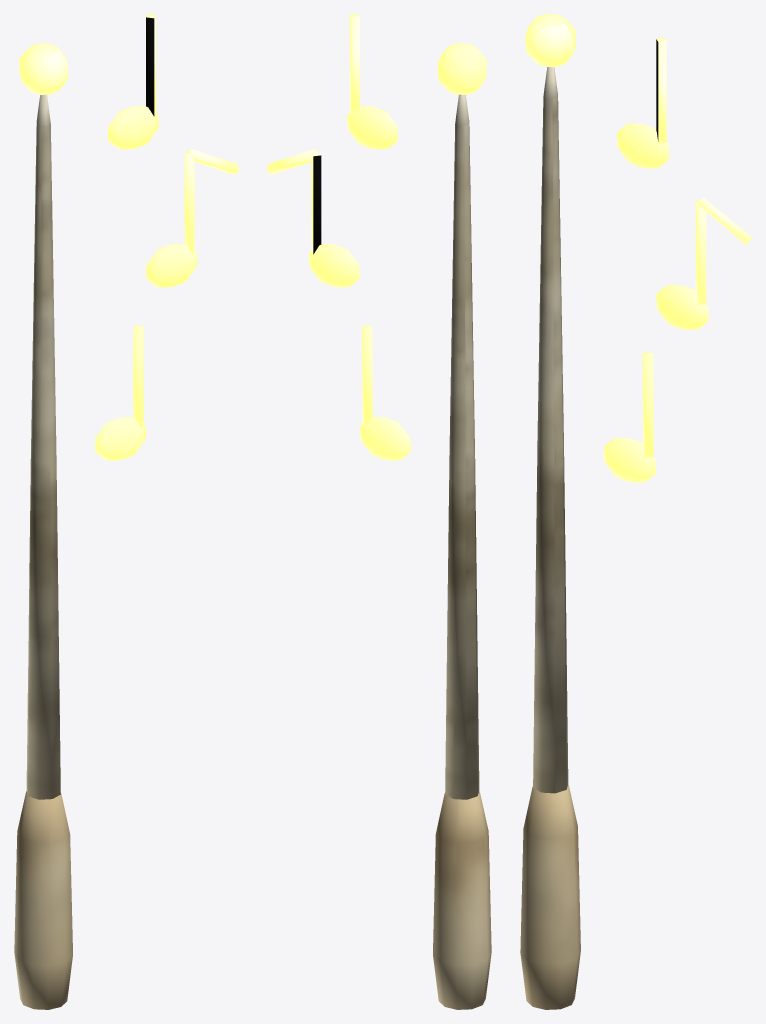
The model's file is MaestrosBaton.fbx.
The picture shows the model from 3 angles, left to right: view 1: azimuth 30°, elevation 25°; view 2: azimuth 150°, elevation 25°; view 3: azimuth 330°, elevation 25°; orthographic projection. The views are drawn at different scales.
Parts seen in each view (by area): view 1: MaestrosBaton; view 2: MaestrosBaton; view 3: MaestrosBaton.
Boxes of the visible parts, box(x1,y1,x2,y2) form: MaestrosBaton: box(14, 14, 238, 1009); MaestrosBaton: box(267, 14, 491, 1009); MaestrosBaton: box(520, 14, 751, 1009).
Bounding box in the file's own units: 0.1719 × 0.72 × 0.038.
